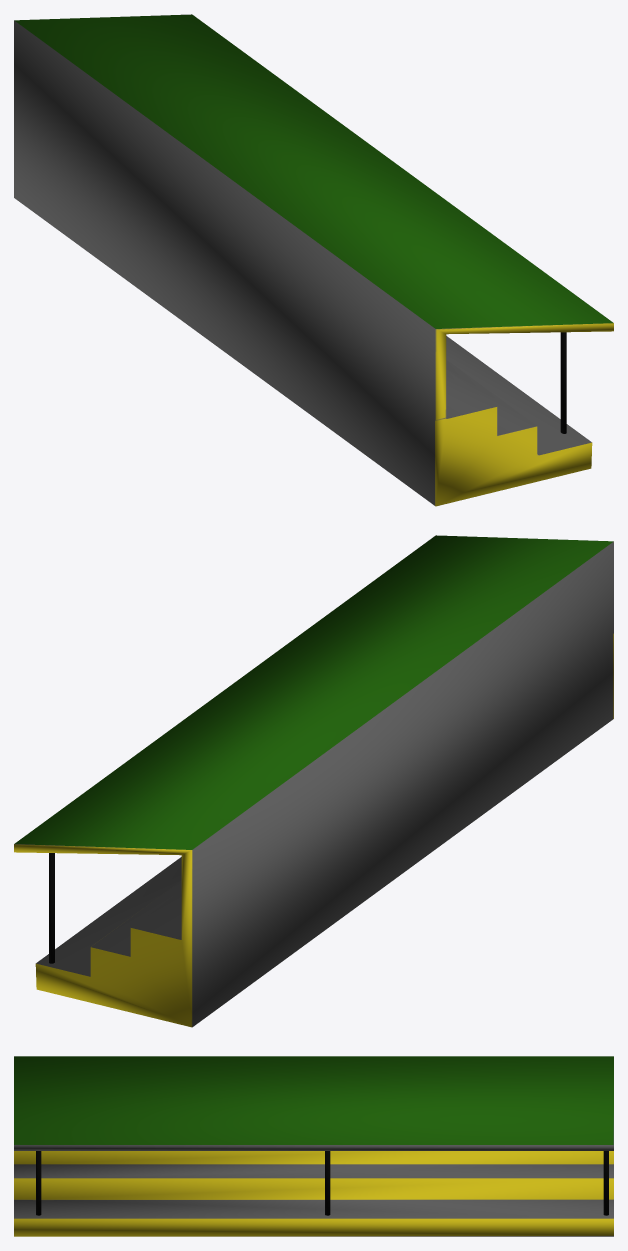
Rendered from Shed.fbx.
3 renders of one model, top to bottom at view 1: azimuth 30°, elevation 25°; view 2: azimuth 150°, elevation 25°; view 3: azimuth 270°, elevation 25°, orthographic. The views are drawn at different scales.
Visible parts, largest first — view 1: Plane; view 2: Plane; view 3: Plane.
Boxes of the visible parts, x1,y1,x2,y2 form: Plane: (14,14,613,506); Plane: (14,535,613,1027); Plane: (14,1056,613,1236).
Size of the model in its own units: 45.26 by 43.06 by 185.
